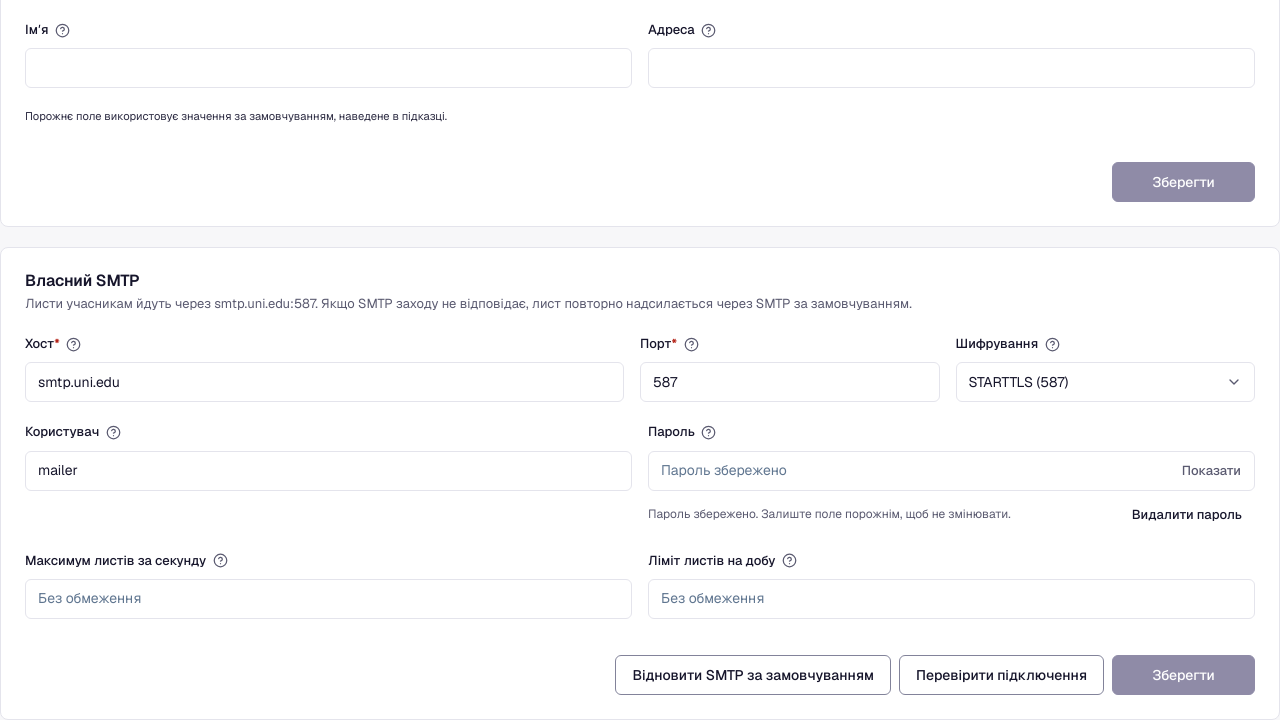
Scenario: shows a failed SMTP check as a human line with the raw server text as details
The width and height of the screenshot is (1280, 720).
(page scrolled)
Click the button "Перевірити підключення": (1002, 675) [899,655,1104,695]
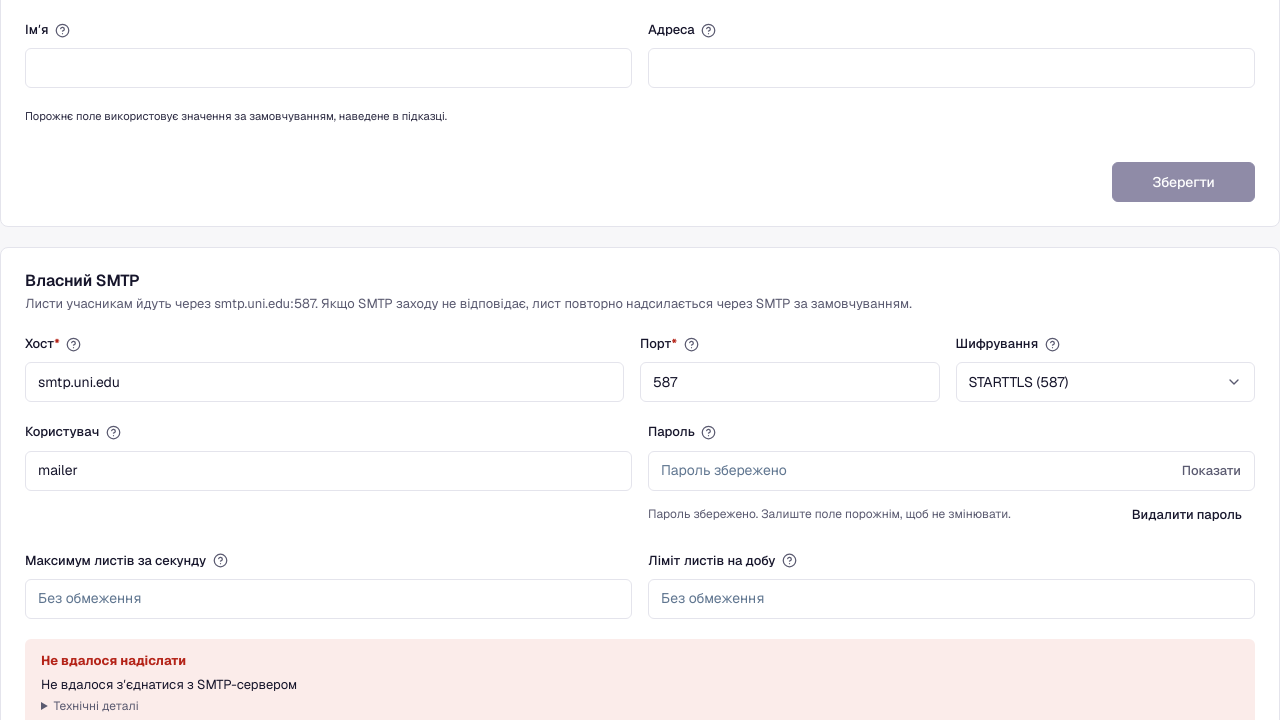
Result: the text "Не вдалося зʼєднатися з SMTP-сервером" is shown at [41,676,297,693]
Result: the text "dial tcp 10.0.0.1:587: i/o timeout" is shown at [54,698,139,714]
